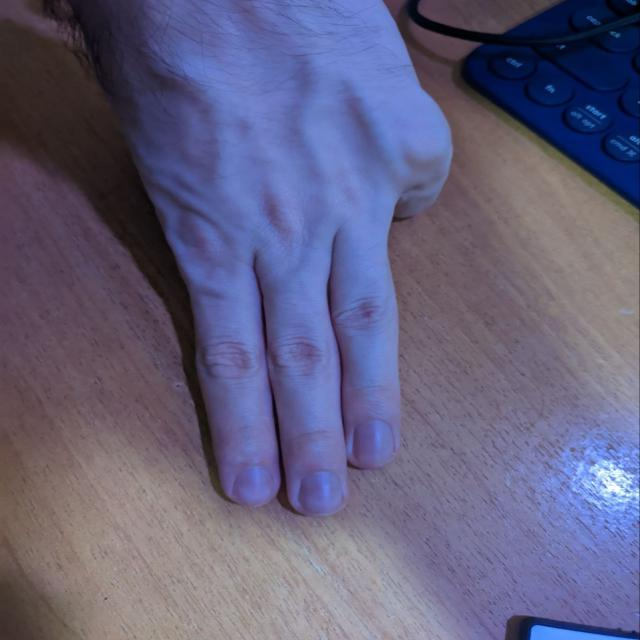t: (80, 39, 459, 524)
